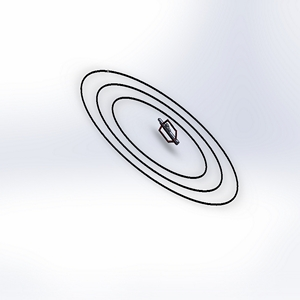circle: (71, 62, 244, 213)
submarine: (150, 115, 186, 156)
